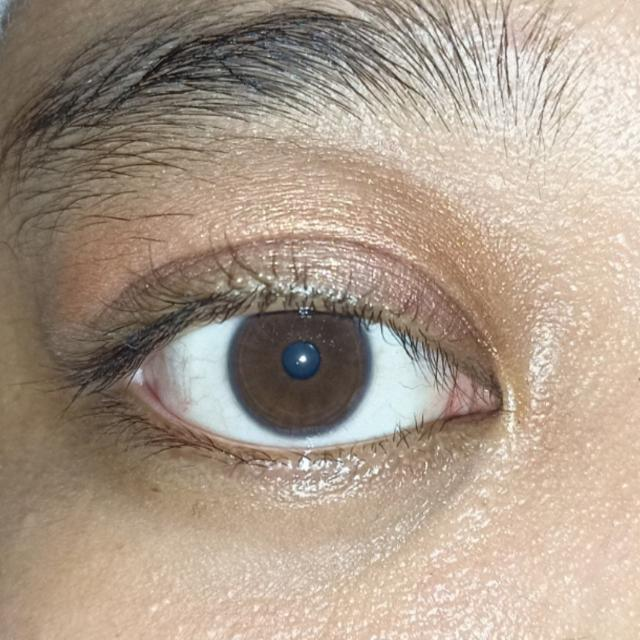Normal: (226, 292, 372, 438)
